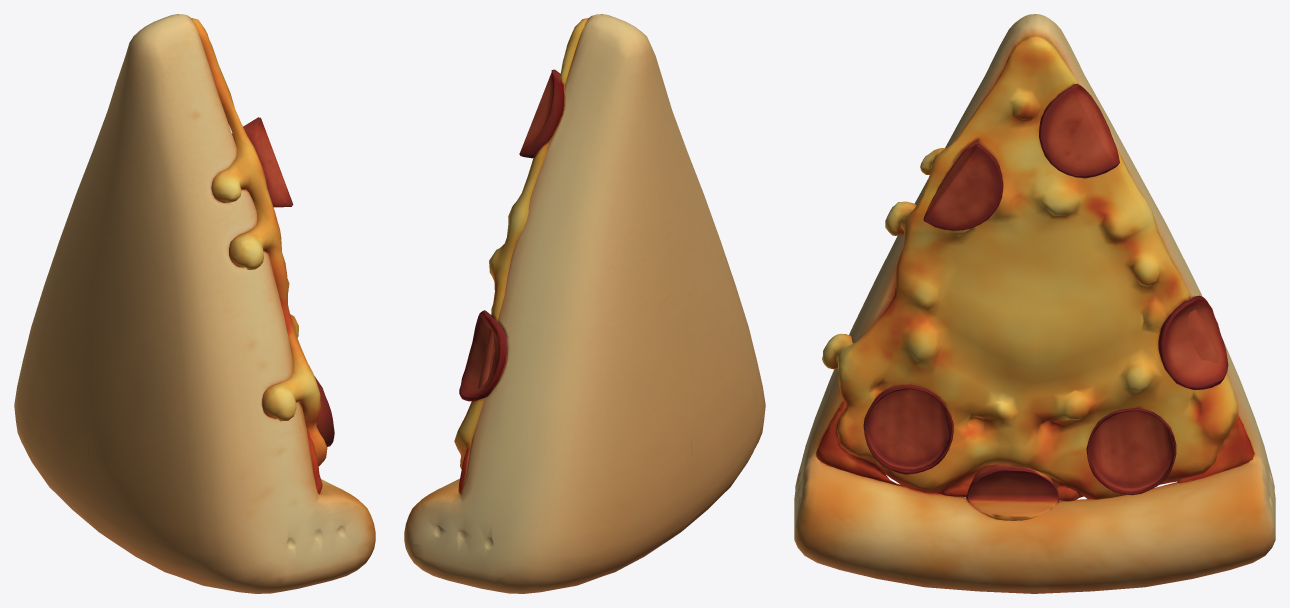
The model's file is pizza_slice.glb.
The picture shows the model from 3 angles, left to right: view 1: azimuth 30°, elevation 25°; view 2: azimuth 150°, elevation 25°; view 3: azimuth 270°, elevation 25°; orthographic projection. The views are drawn at different scales.
Visible parts, largest first — view 1: tripo_node_4d03aa61-0ffa-4314-ac65-130e3a119dc4; view 2: tripo_node_4d03aa61-0ffa-4314-ac65-130e3a119dc4; view 3: tripo_node_4d03aa61-0ffa-4314-ac65-130e3a119dc4.
Part boxes in pixels (x1,y1,x2,y2): tripo_node_4d03aa61-0ffa-4314-ac65-130e3a119dc4: (14,14,375,593); tripo_node_4d03aa61-0ffa-4314-ac65-130e3a119dc4: (404,14,765,593); tripo_node_4d03aa61-0ffa-4314-ac65-130e3a119dc4: (794,14,1275,593).
Size of the model in its own units: 0.3965 by 0.998 by 0.8144.
Materials: 1 (1 with a texture image).
